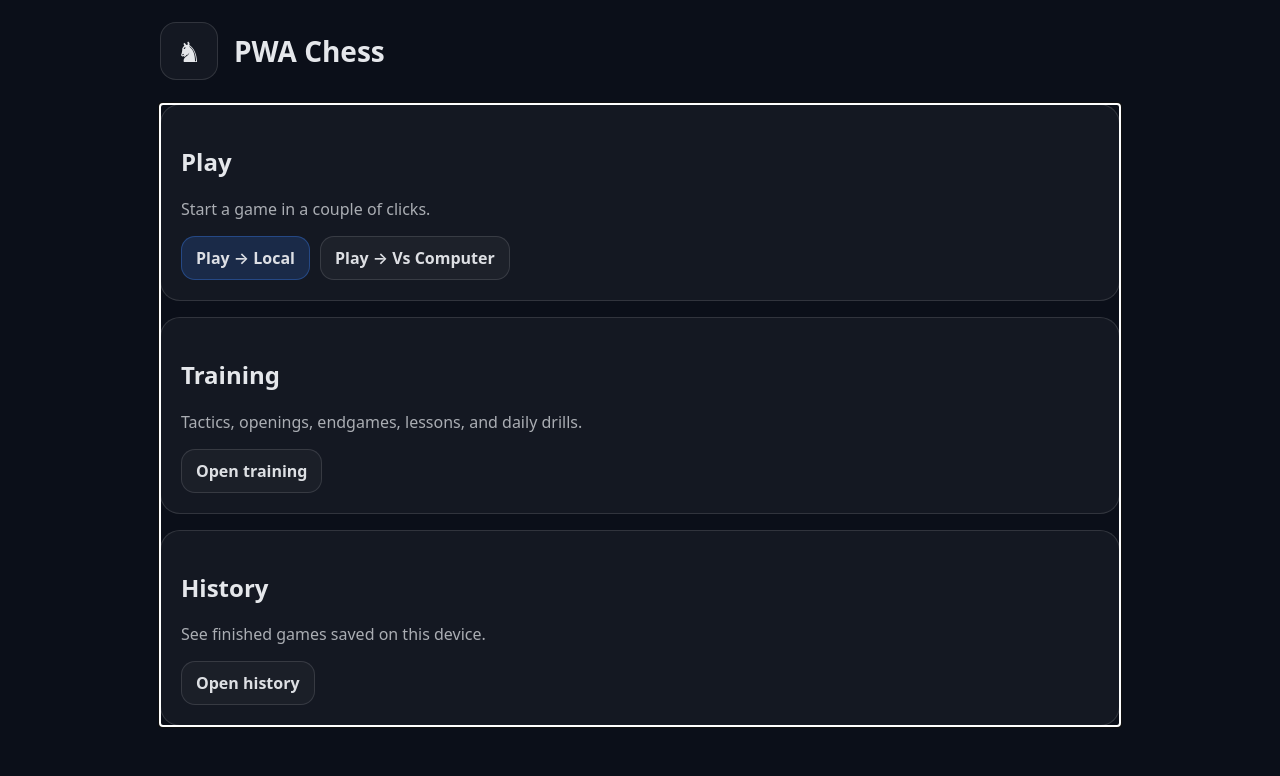
Scenario: vs-computer hint feature › shows a hint note and highlights a suggested move
This screenshot has width=1280, height=776.
Click the link "Play → Vs Computer": [415, 258] box [320, 236, 510, 280]
(page scrolled)
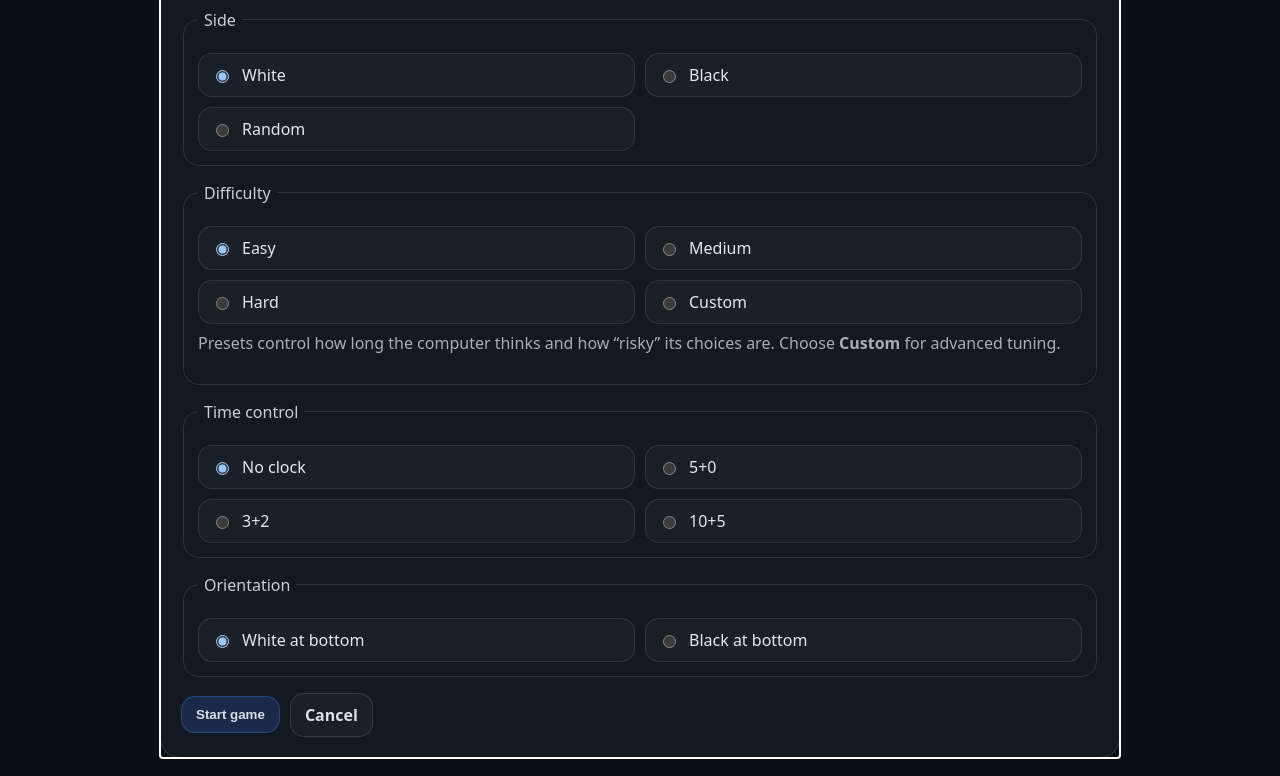
Click the button "Start game": [230, 715] box [181, 696, 280, 733]
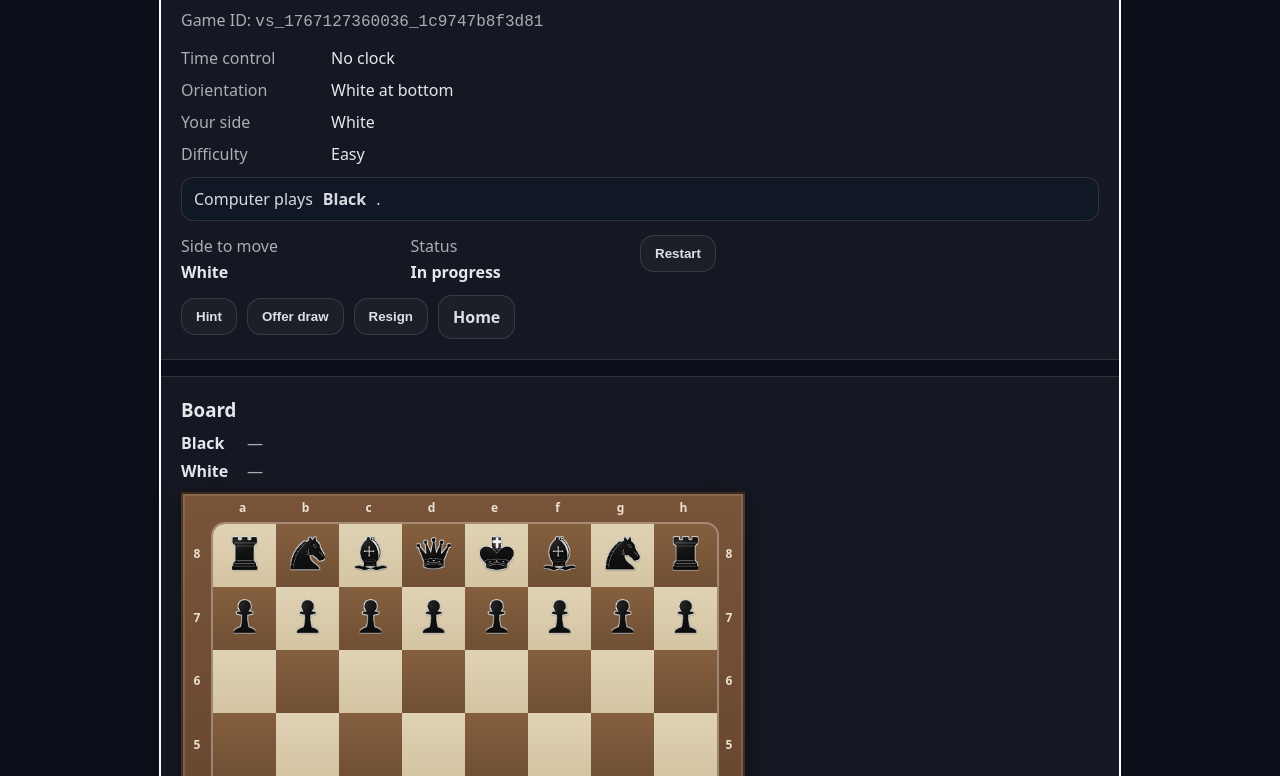
Click the button "Hint": [209, 317] box [181, 298, 237, 335]
(page scrolled)
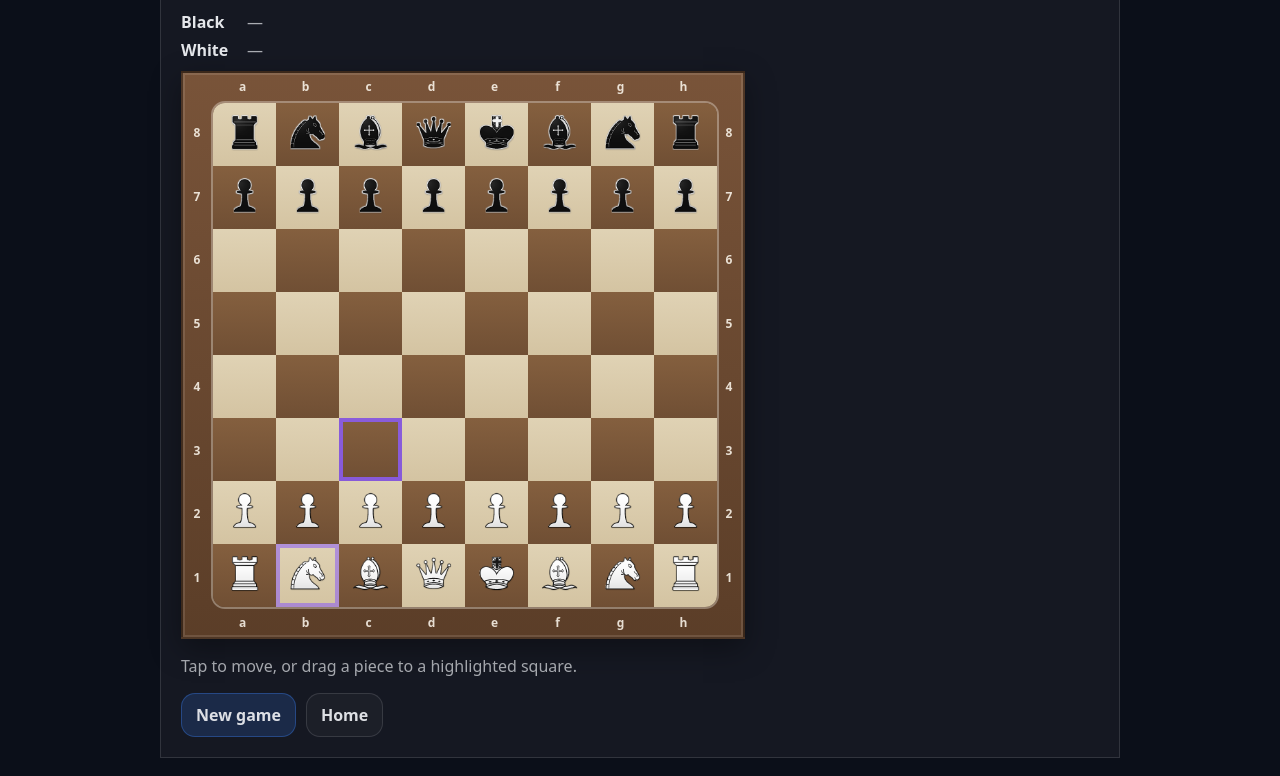
expect the button with class "boardSq-hintFrom" is shown: met, box [276, 544, 339, 607]
expect the button with class "boardSq-hintTo" is shown: met, box [339, 418, 402, 481]
